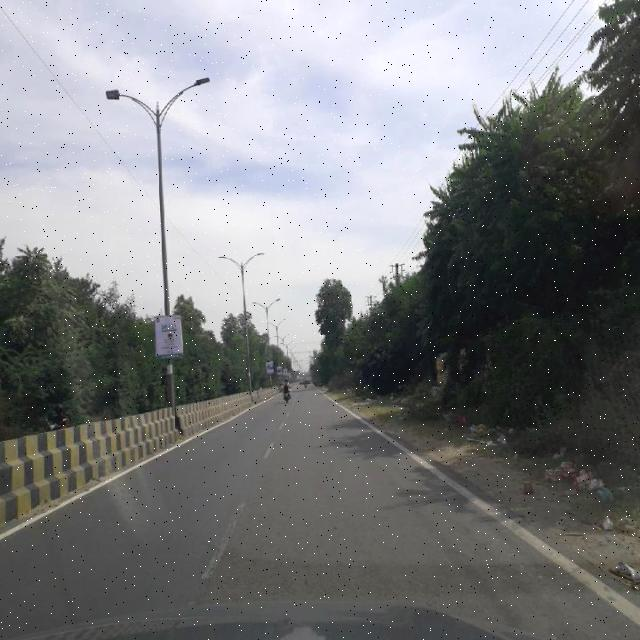D44: (196, 499, 252, 584)
